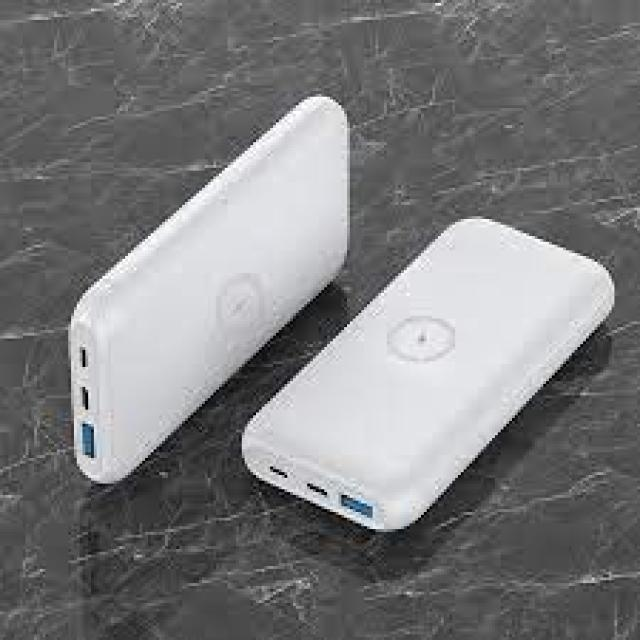portable-charger: (239, 207, 623, 540), (65, 88, 362, 494)
